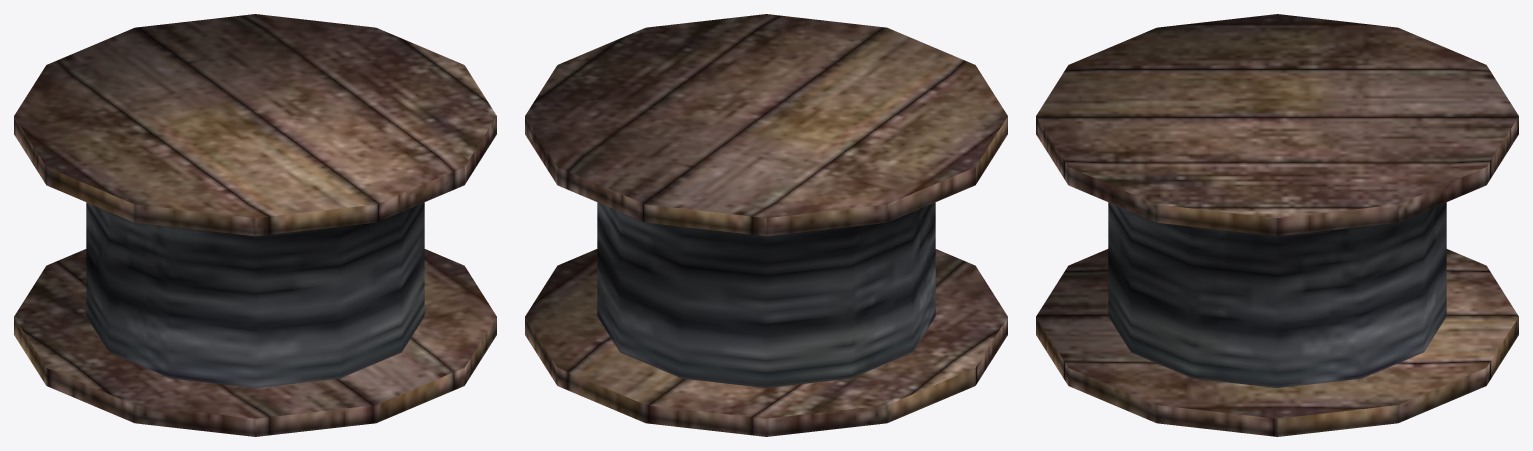
File: psx_industrial_pack_spool.glb
The picture shows the model from 3 angles, left to right: view 1: azimuth 30°, elevation 25°; view 2: azimuth 150°, elevation 25°; view 3: azimuth 270°, elevation 25°; orthographic projection.
Visible parts, largest first — view 1: Spool; view 2: Spool; view 3: Spool.
Boxes of the visible parts, <box> form: Spool: <box>14,14,496,436</box>; Spool: <box>525,14,1007,436</box>; Spool: <box>1036,14,1518,436</box>.
Bounding box in the file's own units: 2 × 1 × 2.
1 material, 1 textured.
